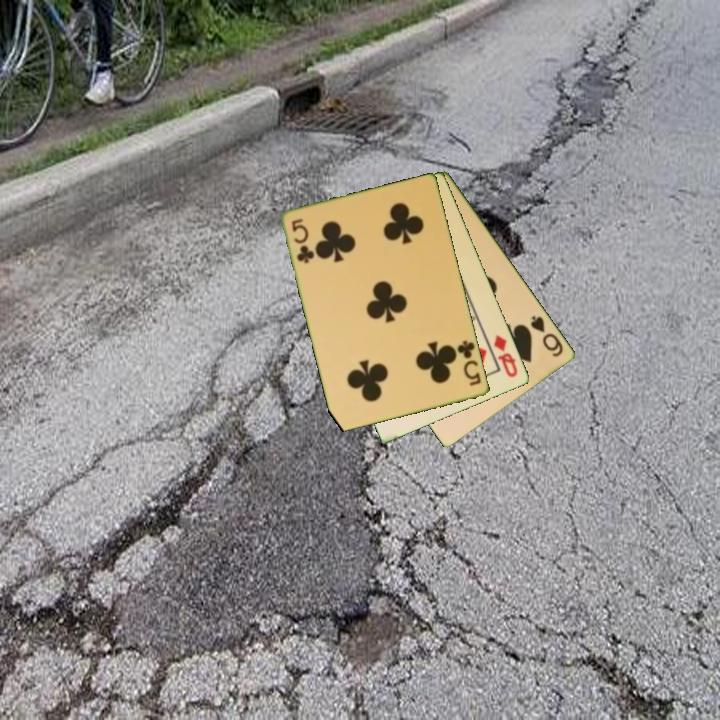5c: (454, 337, 484, 389), (288, 215, 317, 267)
6s: (527, 312, 566, 360)
Qd: (490, 331, 521, 381)
